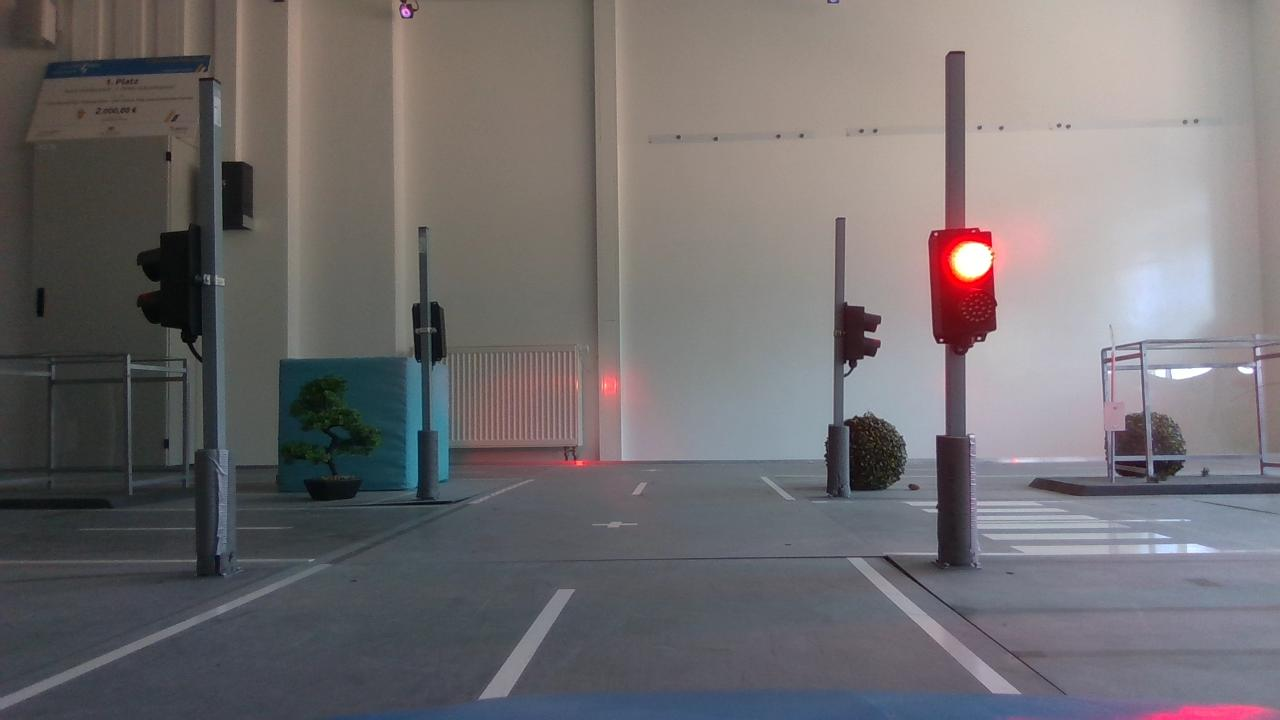traffic_light_red: (923, 226, 1007, 351)
